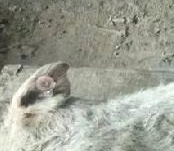text: (27, 67, 65, 100)
